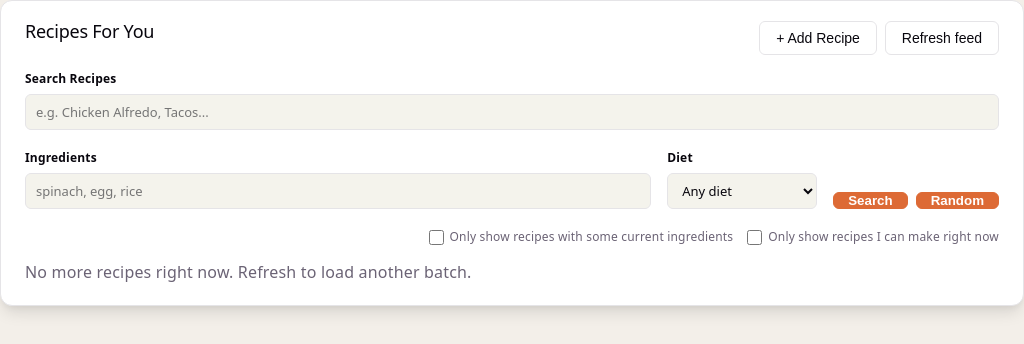
Test: RecipesPanel › displays no matching recipes message when search returns empty
The image size is (1024, 344).
Expected: the button "Search" is enabled, [833,192,908,209]
In the search field with placeholder "e.g. Chicken Alfredo, Tacos...": (512, 112) [25,94,999,130], type "Unknown Recipe"
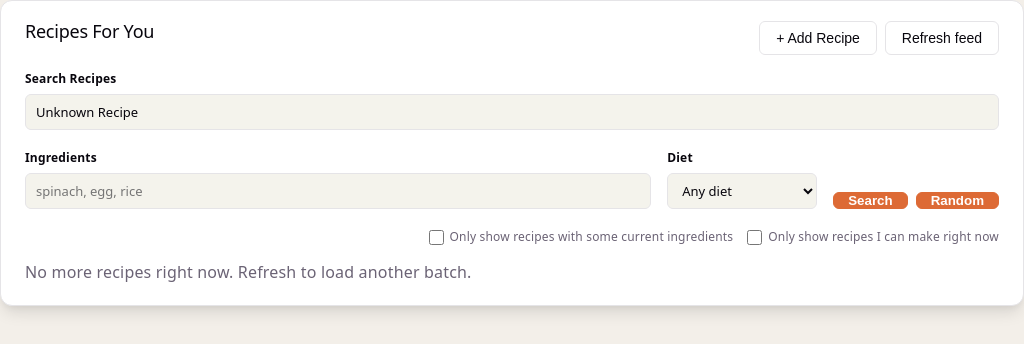
Click the button "Search": (870, 201) [833,192,908,209]
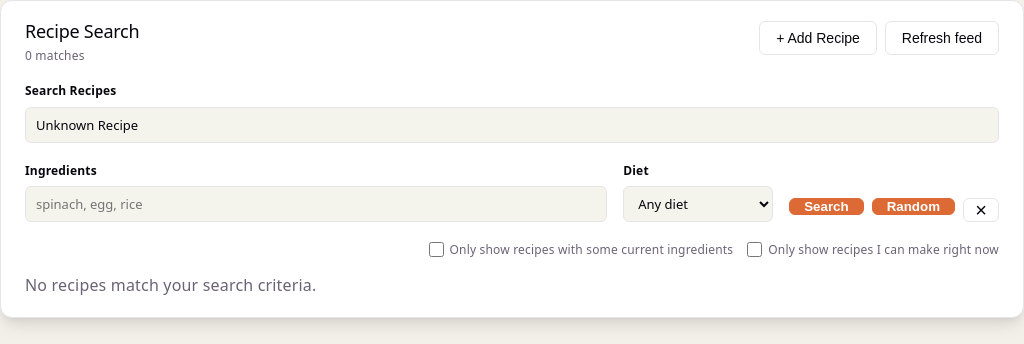
Expected: the text "No recipes match your search criteria." is shown, [25,274,316,296]
